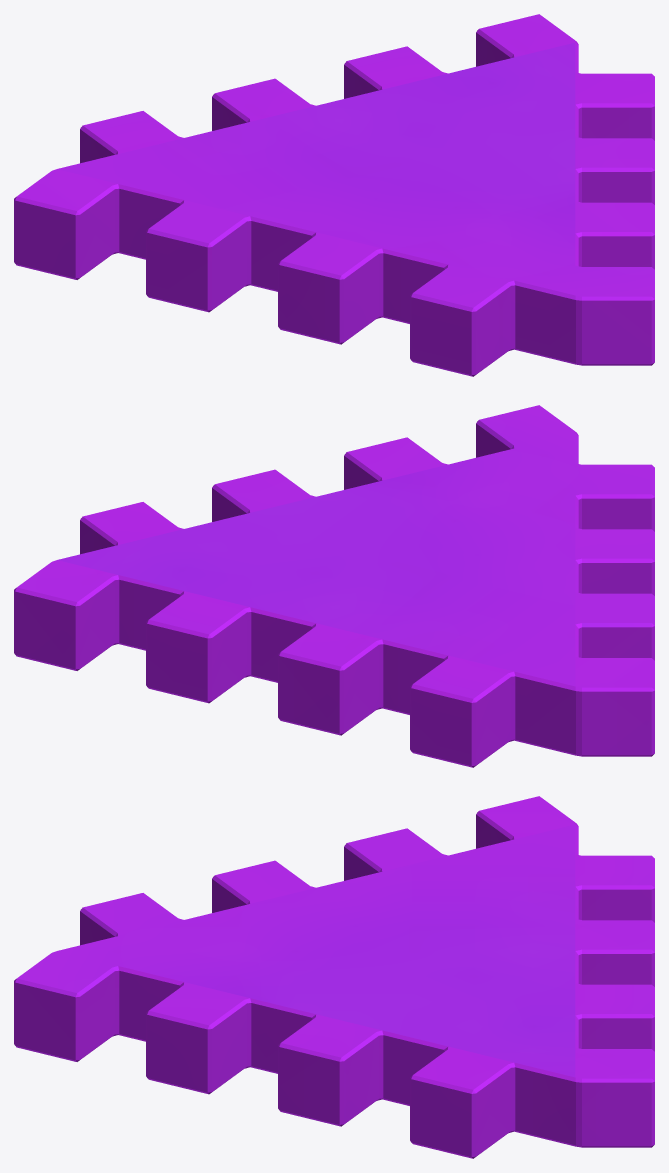
File: PinkTriangle.fbx
3 renders of one model, top to bottom at view 1: azimuth 30°, elevation 25°; view 2: azimuth 150°, elevation 25°; view 3: azimuth 270°, elevation 25°, orthographic.
Visible parts, largest first — view 1: BlueTriangle; view 2: BlueTriangle; view 3: BlueTriangle.
Part boxes in pixels (x1,y1,x2,y2): BlueTriangle: (14, 14, 654, 376); BlueTriangle: (14, 405, 654, 767); BlueTriangle: (14, 796, 654, 1158).
Size of the model in its own units: 4.59 by 0.4992 by 4.2.
